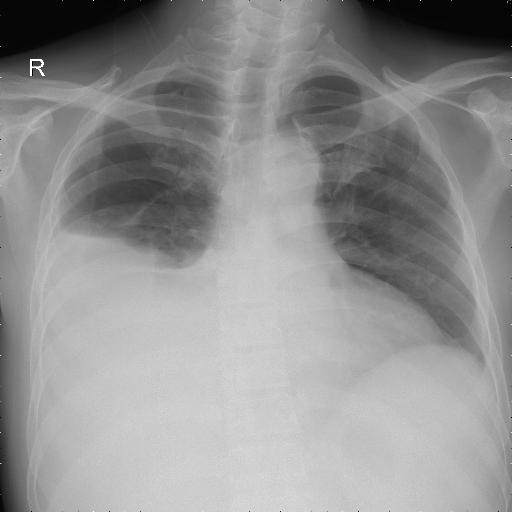Aortic enlargement: (224, 95, 292, 178)
Cardiomegaly: (50, 236, 314, 324)
Pleural effusion: (0, 74, 131, 290)
Pulmonary fibrosis: (94, 157, 152, 204)
